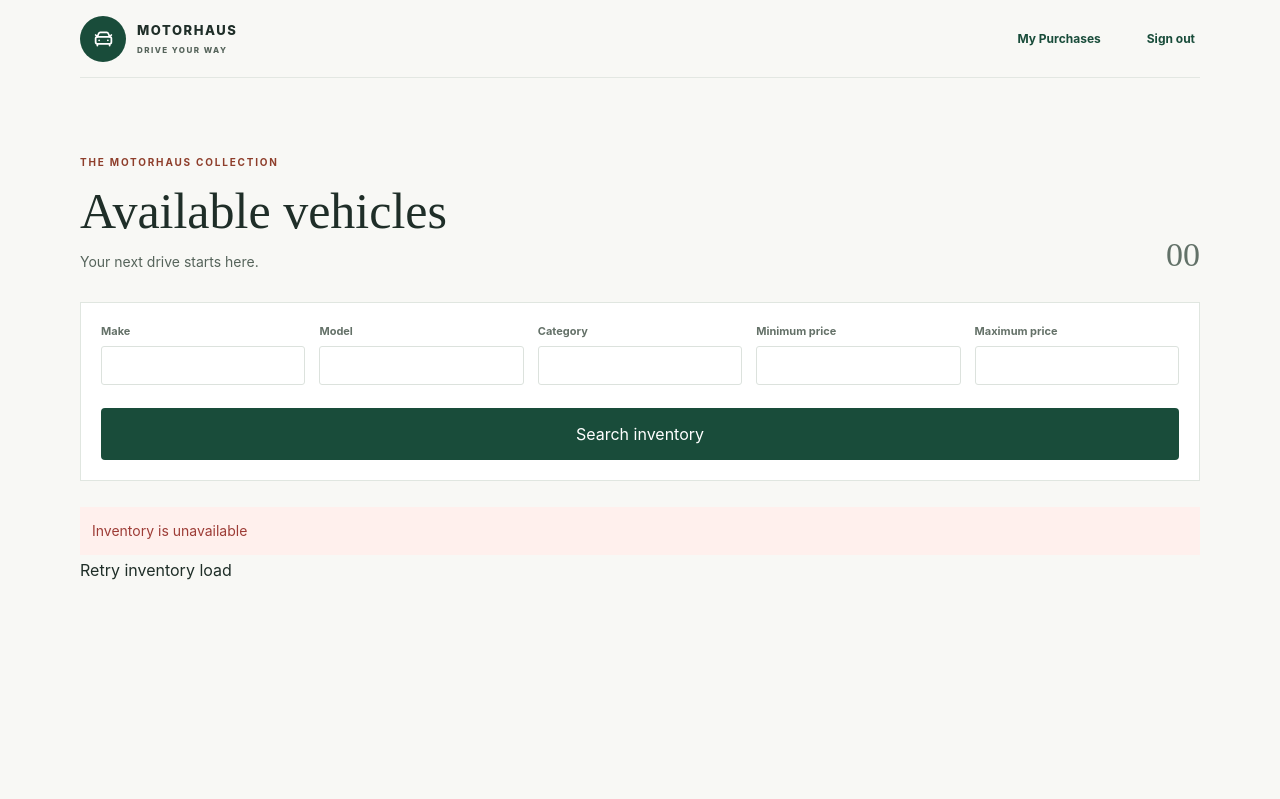
Test: inventory dashboard › recovers from an inventory error with an explicit retry
Expected: the message reads "Inventory is unavailable", [92,522,247,539]
What coordinates should you click on to do the following:
click the button "Retry inventory load"
I would click on:
 (156, 570)
Its box is [80,558,232,582].
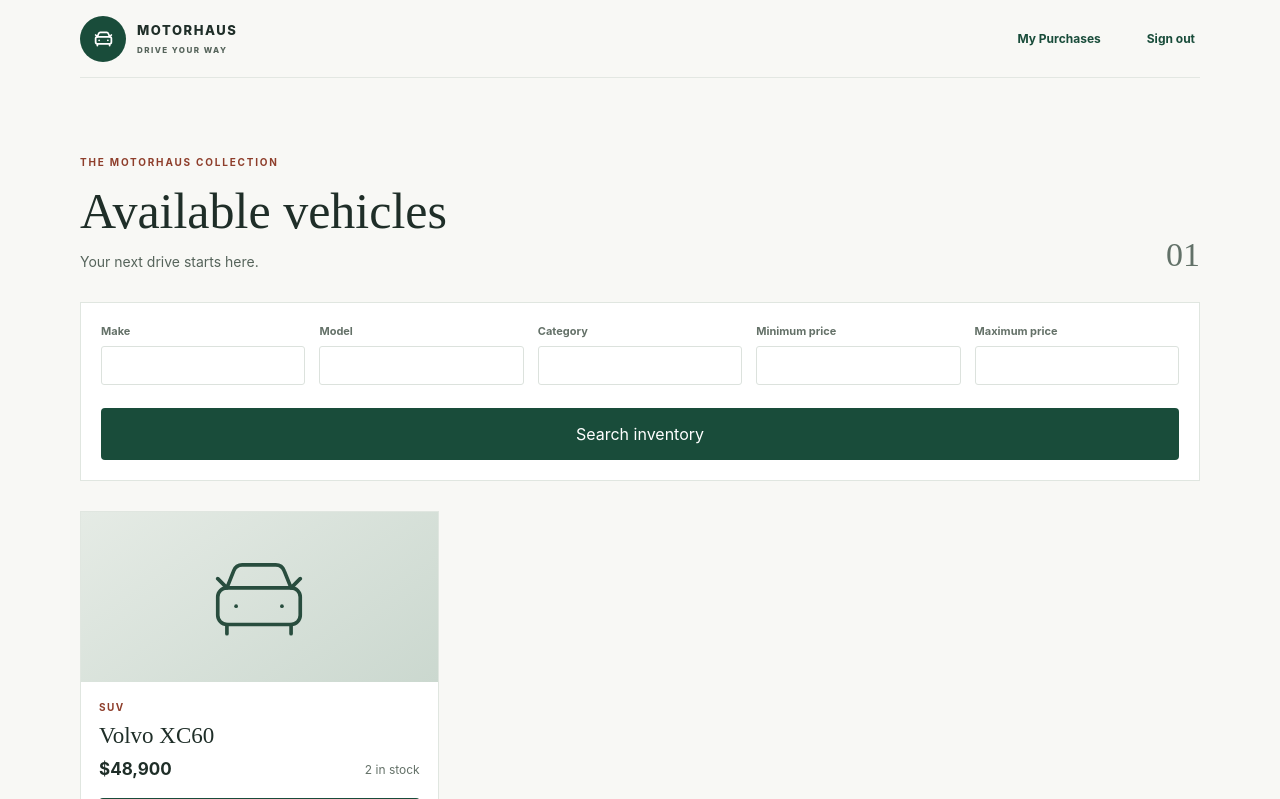
Expected: the heading "Volvo XC60" is shown, [99,723,214,748]
